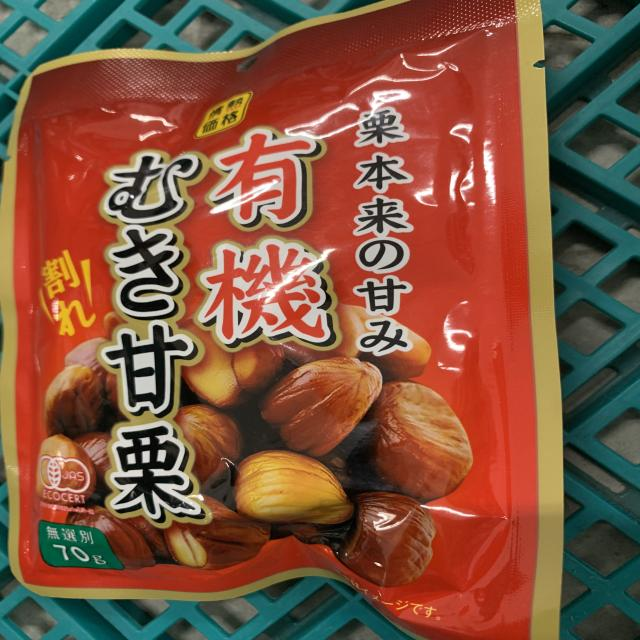object_name: (27, 26, 554, 626)
